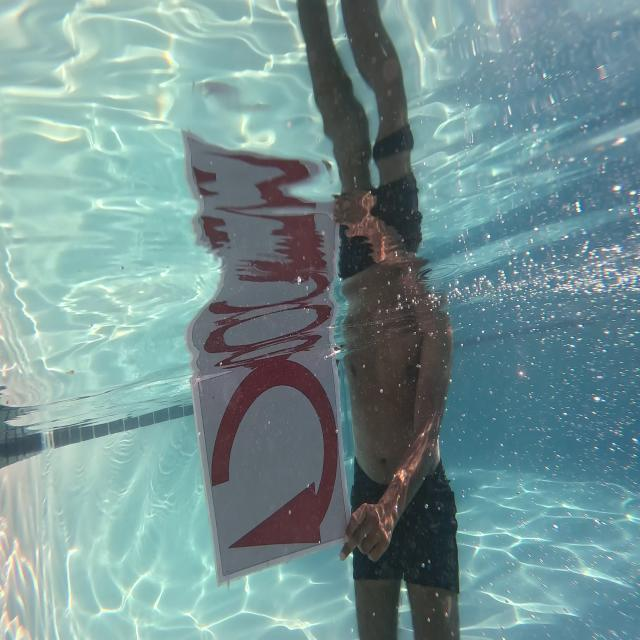red_side: (190, 348, 355, 591)
